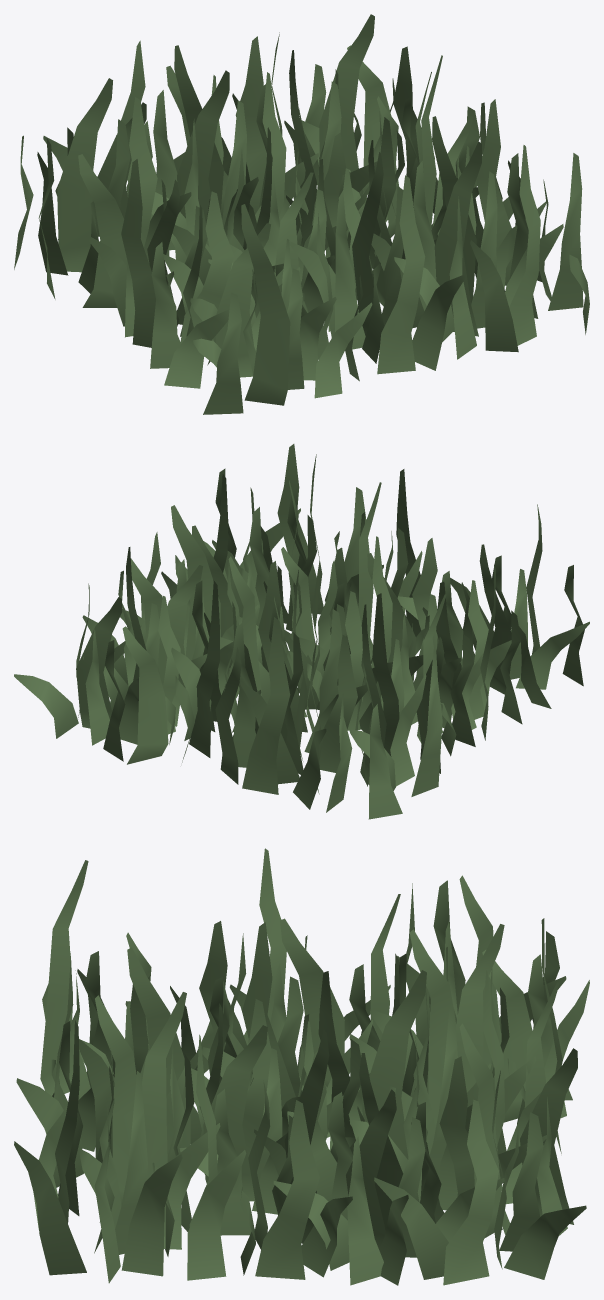
File: grassClumpLong.fbx
3 renders of one model, top to bottom at view 1: azimuth 30°, elevation 25°; view 2: azimuth 150°, elevation 25°; view 3: azimuth 270°, elevation 25°, orthographic. The views are drawn at different scales.
Visible parts, largest first — view 1: grassClumpLong; view 2: grassClumpLong; view 3: grassClumpLong.
Part boxes in pixels (x1=…): grassClumpLong: x1=14, y1=14, x2=589, y2=414; grassClumpLong: x1=14, y1=444, x2=589, y2=819; grassClumpLong: x1=14, y1=848, x2=589, y2=1285.
Bounding box in the file's own units: 103 × 46.94 × 106.
